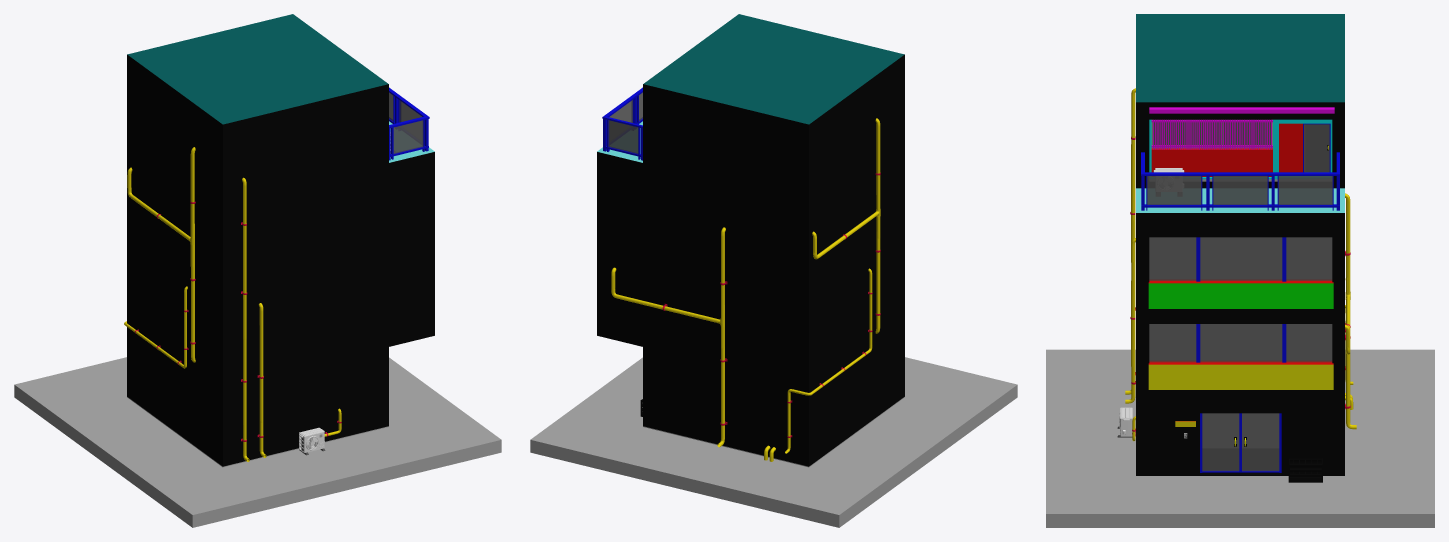
The model's file is building8.fbx.
3 renders of one model, left to right at view 1: azimuth 30°, elevation 25°; view 2: azimuth 150°, elevation 25°; view 3: azimuth 270°, elevation 25°, orthographic. The views are drawn at different scales.
Visible parts, largest first — view 1: polySurface111; view 2: polySurface111; view 3: polySurface111.
Boxes of the visible parts, bbox=[...] form: polySurface111: bbox=[14, 14, 501, 527]; polySurface111: bbox=[530, 14, 1017, 527]; polySurface111: bbox=[1046, 14, 1434, 527].
Bounding box in the file's own units: 19.02 × 20.92 × 19.02.
